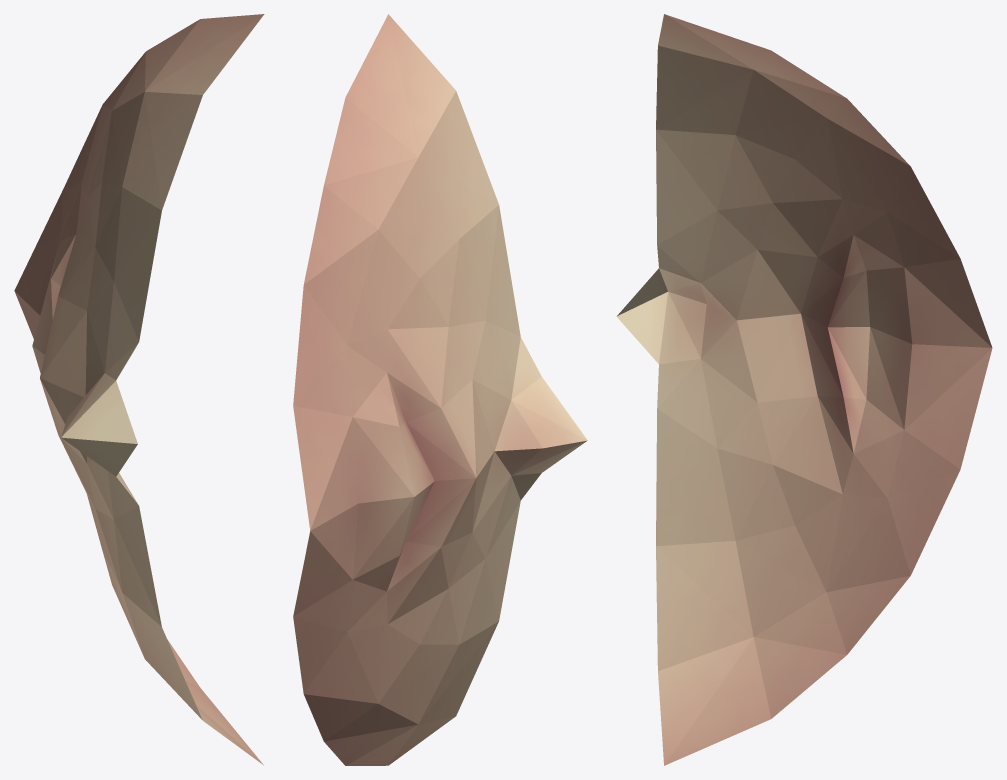
3 views of the same model, side by side, from view 1: azimuth 30°, elevation 25°; view 2: azimuth 150°, elevation 25°; view 3: azimuth 270°, elevation 25° (orthographic).
Parts seen in each view (by area): view 1: B_0049_4b_0; view 2: B_0049_4b_0; view 3: B_0049_4b_0.
Part boxes in pixels (x1,y1,x2,y2): B_0049_4b_0: (14, 14, 264, 765); B_0049_4b_0: (293, 14, 587, 765); B_0049_4b_0: (616, 14, 992, 765).
Bounding box in the file's own units: 0.0783 × 0.2791 × 0.1265.
1 material, 1 textured.
